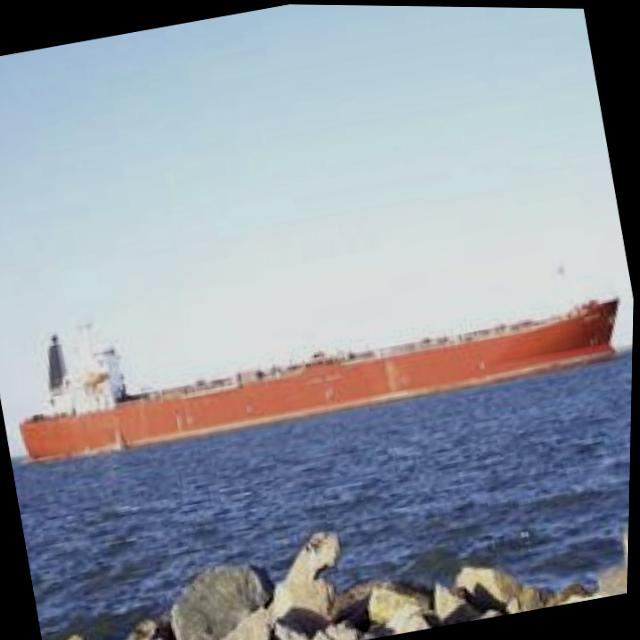ship2: (24, 297, 623, 461)
